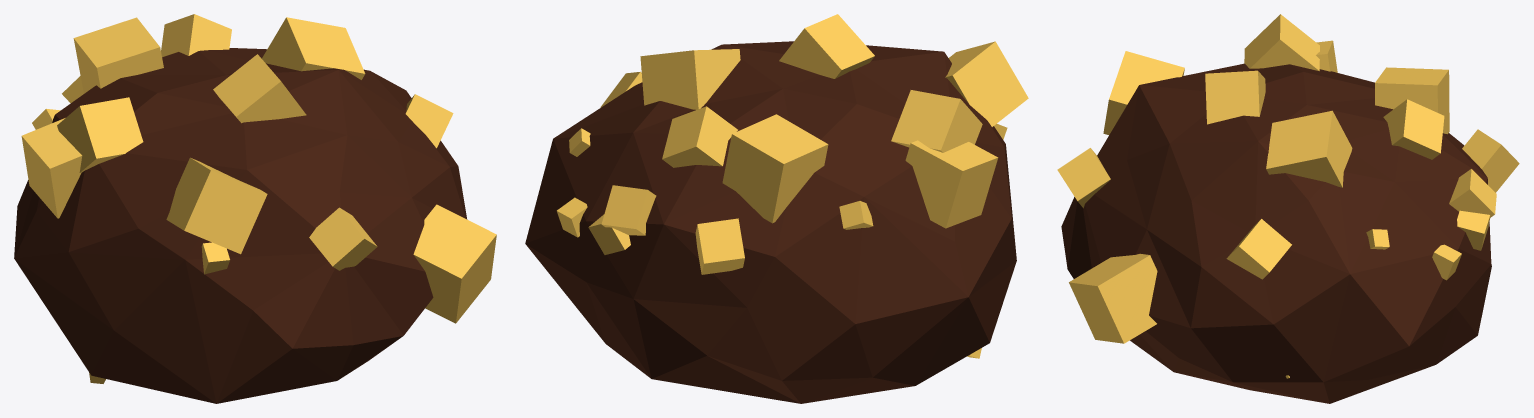
The model's file is goldenOre2-1.fbx.
3 renders of one model, left to right at view 1: azimuth 30°, elevation 25°; view 2: azimuth 150°, elevation 25°; view 3: azimuth 270°, elevation 25°, orthographic. The views are drawn at different scales.
Parts seen in each view (by area): view 1: Cube; view 2: Cube; view 3: Cube.
Part boxes in pixels (x1,y1,x2,y2): Cube: (14,14,496,403); Cube: (525,14,1028,403); Cube: (1057,14,1519,403).
Size of the model in its own units: 211 by 157 by 220.
